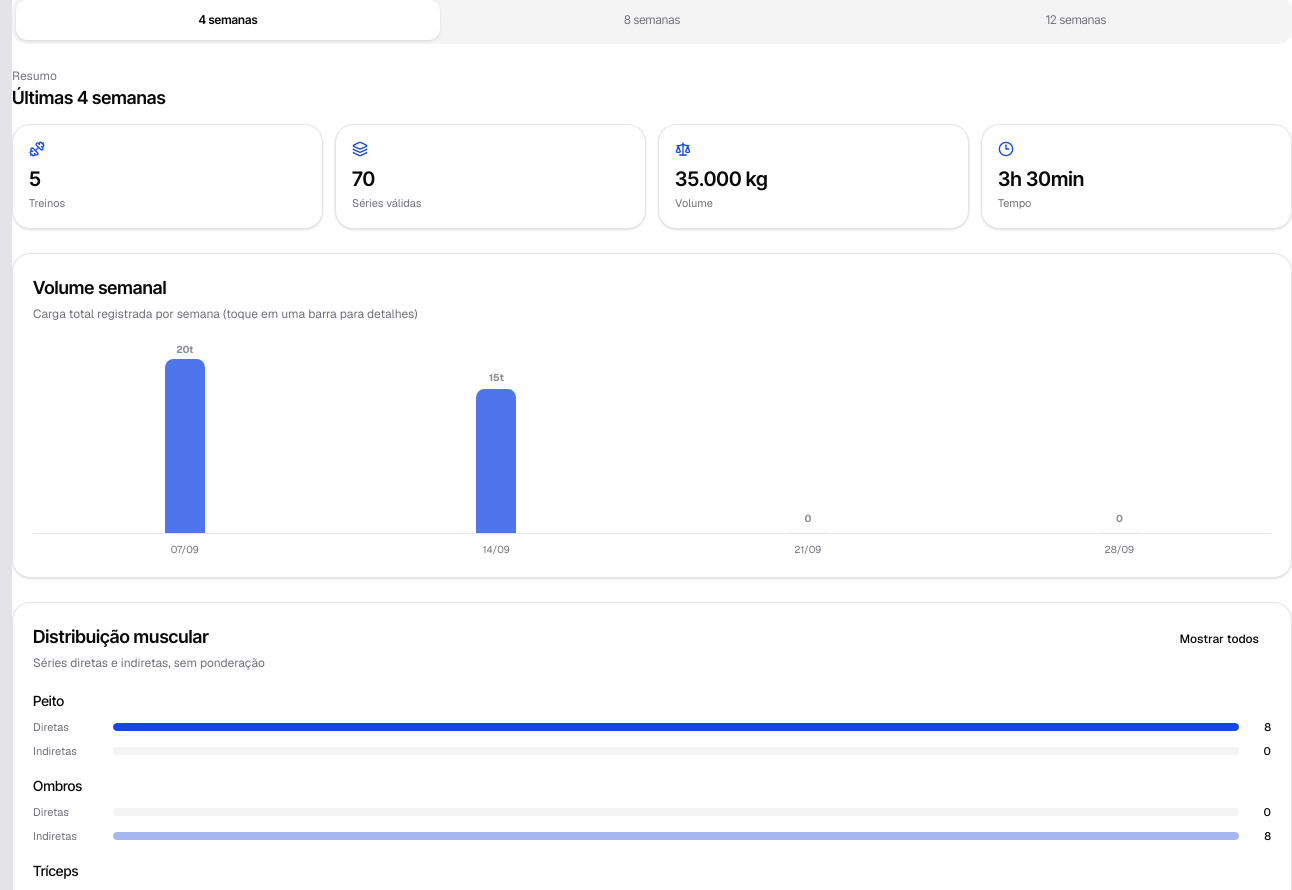
Test: Evolution dashboard › mantém total real de 8 séries sem somar incidências musculares
Expected: the text "Peito" is shown, [33,692,64,708]
Expected: the text "Tríceps" is shown, [33,862,78,878]
Step 1. Click the button "Mostrar todos" → (1219, 638), box [1168,622,1271,654]
(page scrolled)
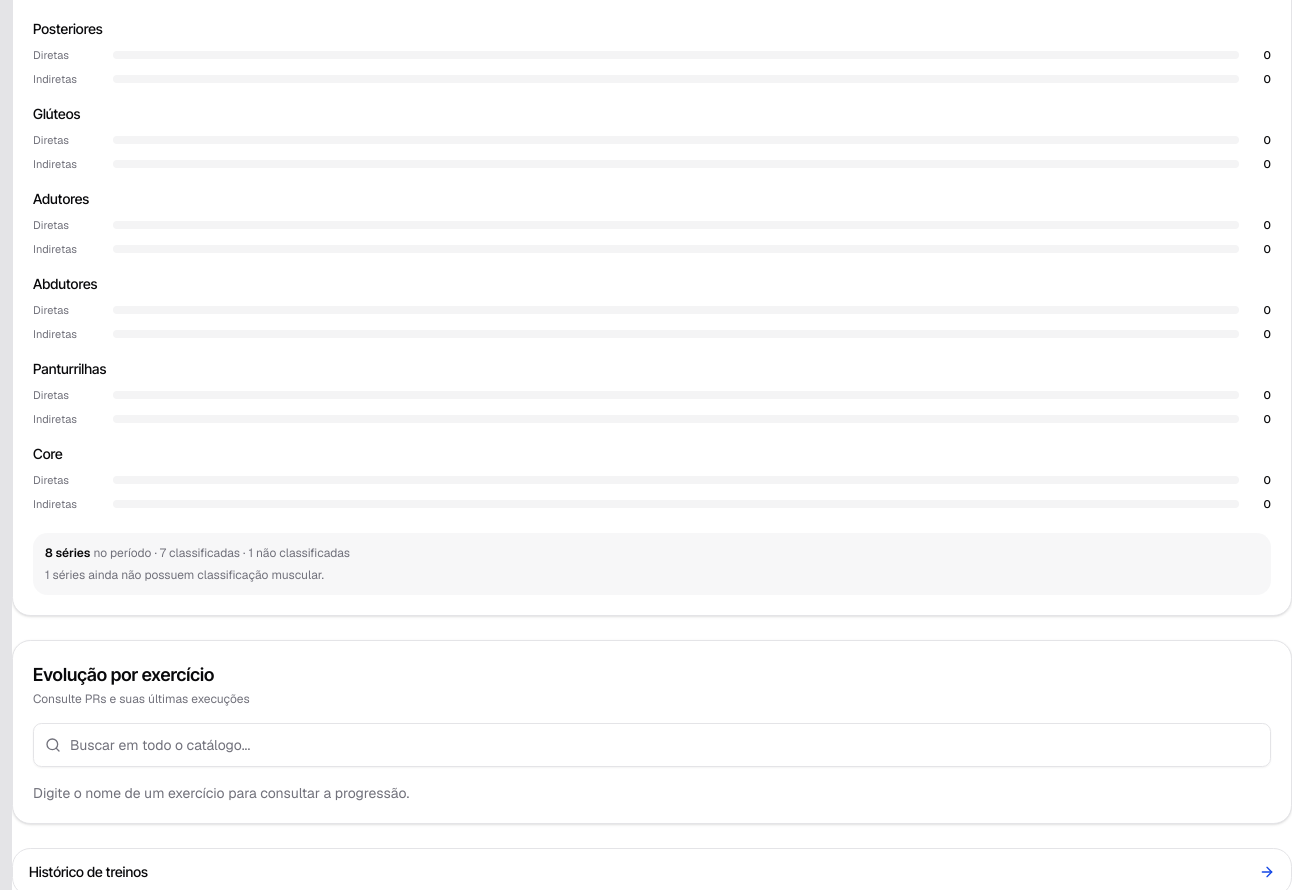
Expected: the text "Core" is shown, [33,444,63,462]
